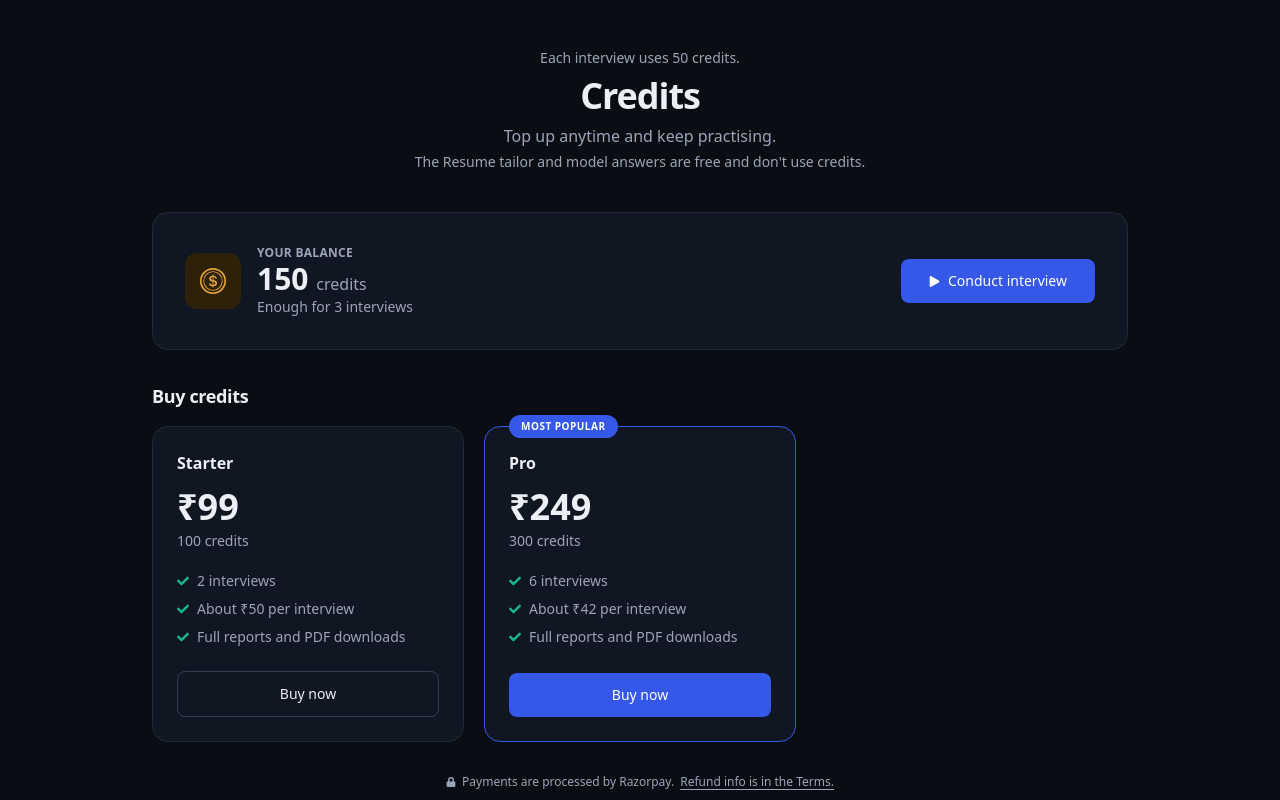
it: Pricing: buying credits › verifies the payment, updates the credits in Redux and shows a success message
This screenshot has width=1280, height=800.
What coordinates should you click on to do the following:
click the button "Buy now" below "42"
I would click on:
 (640, 695)
Its box is [509,673,771,717].
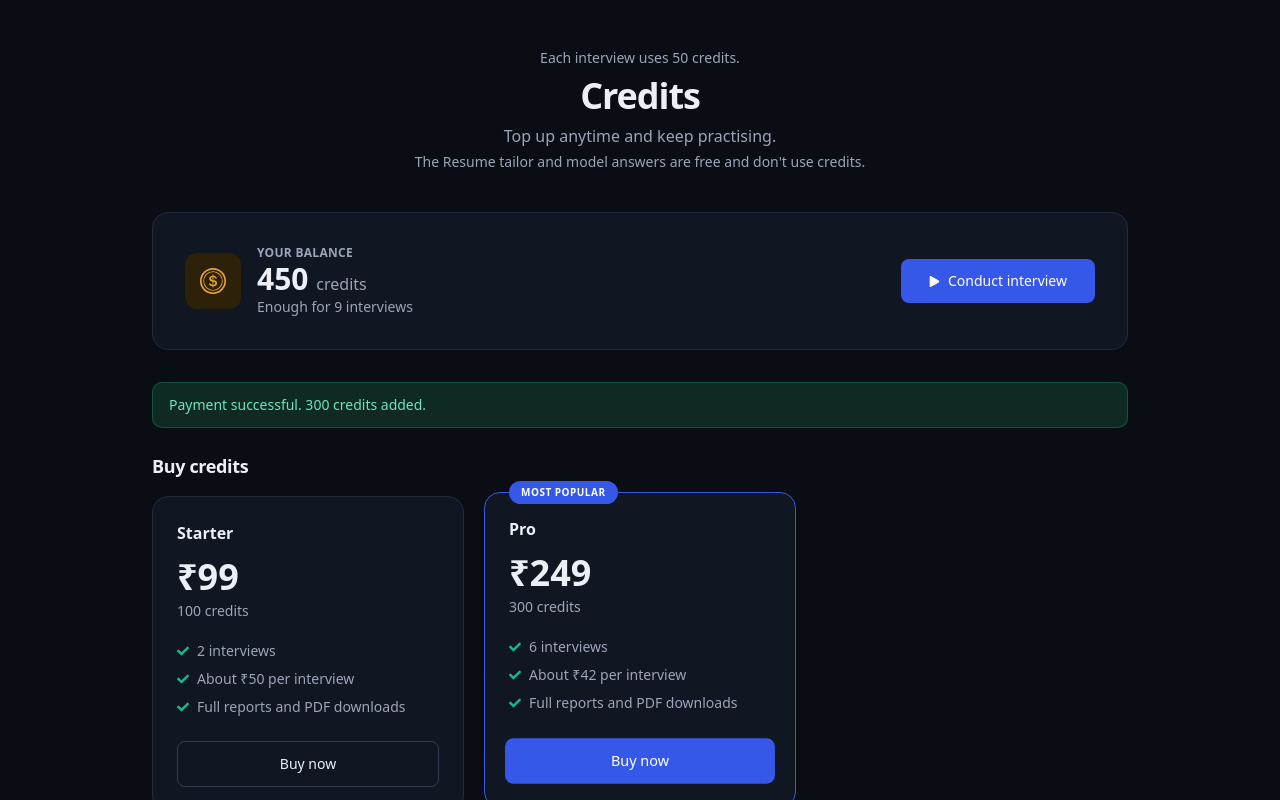
expect the number of buttons "Buy now" is 2: met, box [177,741,439,787]; [505,738,775,784]
expect the message reads "Payment successful. 300 credits added.": met, box [169,395,426,414]
expect the text "Enough for 9 interviews" is shown: met, box [257,297,413,317]
